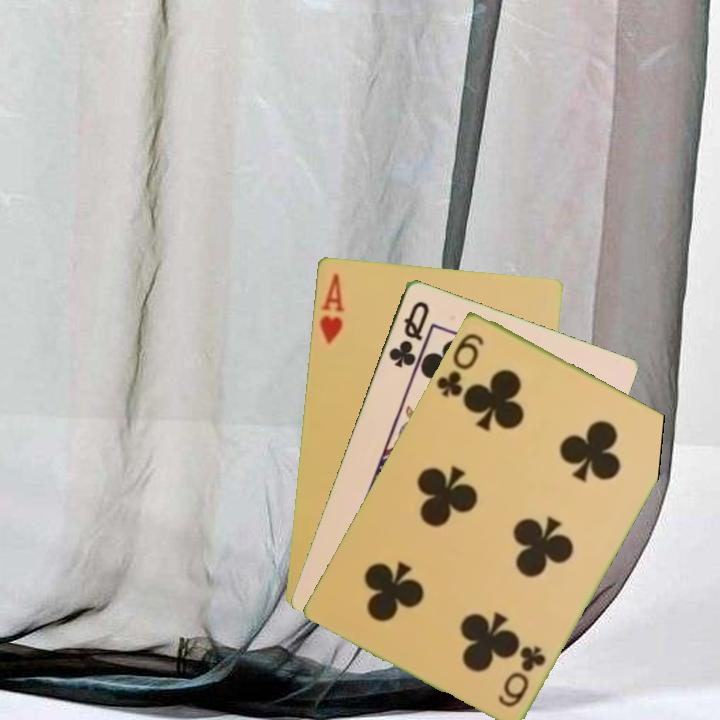6c: (432, 329, 487, 400), (494, 641, 549, 710)
Ah: (315, 269, 346, 347)
Qc: (385, 296, 432, 371)
